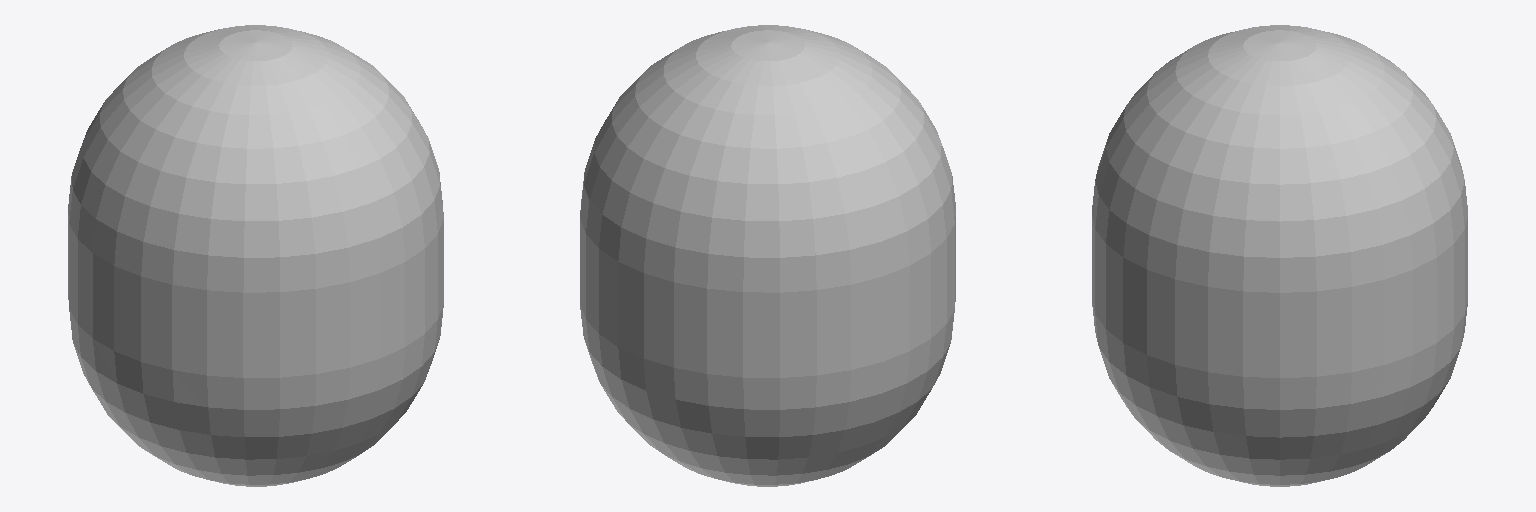
Rendered from bar.obj.
The picture shows the model from 3 angles: view 1: azimuth 30°, elevation 25°; view 2: azimuth 150°, elevation 25°; view 3: azimuth 270°, elevation 25°; orthographic projection.
Parts seen in each view (by area): view 1: Sphere; view 2: Sphere; view 3: Sphere.
Part boxes in pixels (x1,y1,x2,y2): Sphere: (68,25,443,486); Sphere: (580,25,955,486); Sphere: (1092,25,1467,486).
Bounding box in the file's own units: 2 × 2.5 × 2.